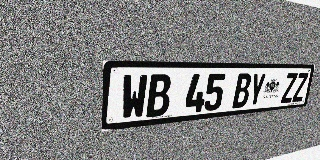4: (184, 74, 208, 113)
5: (204, 74, 226, 111)
B: (146, 74, 172, 117), (232, 73, 252, 108)
W: (121, 74, 148, 120)
Y: (247, 73, 266, 107)
Z: (281, 73, 298, 103), (292, 73, 309, 102)
